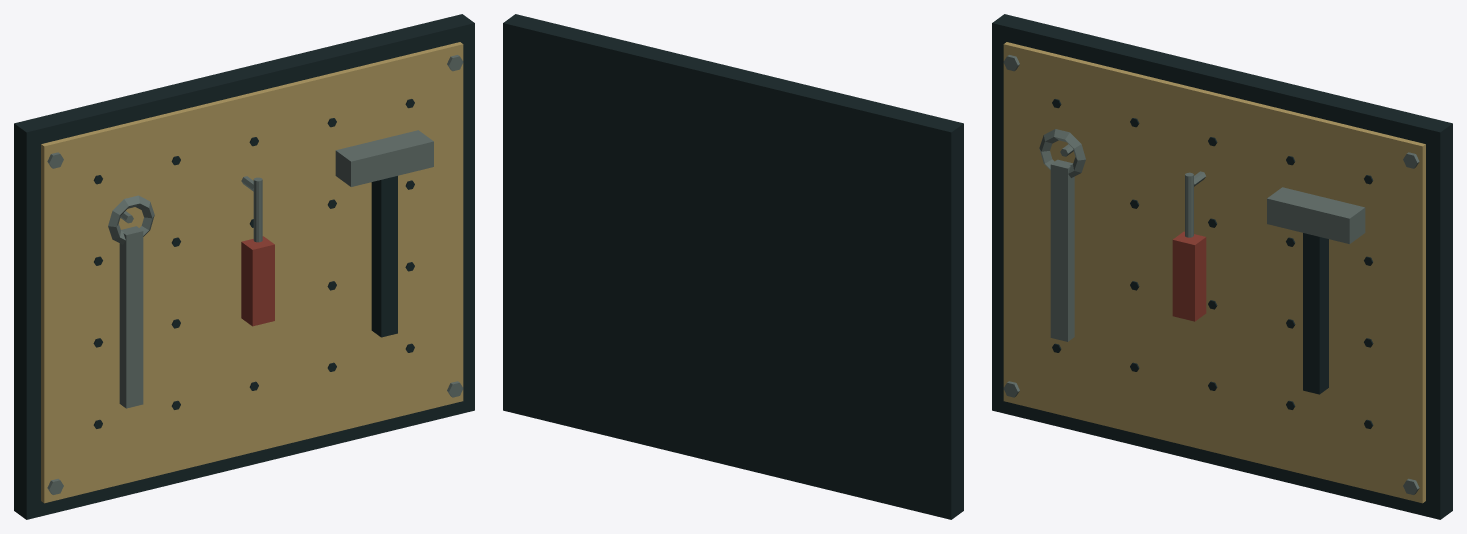
Rendered from tool-board.glb.
The picture shows the model from 3 angles, left to right: view 1: azimuth 30°, elevation 25°; view 2: azimuth 150°, elevation 25°; view 3: azimuth 330°, elevation 25°; orthographic projection.
Visible parts, largest first — view 1: tool-board; view 2: tool-board; view 3: tool-board.
Part boxes in pixels (x1=…): tool-board: x1=14, y1=14, x2=474, y2=519; tool-board: x1=503, y1=14, x2=963, y2=519; tool-board: x1=992, y1=14, x2=1452, y2=519.
Size of the model in its own units: 0.92 by 0.76 by 0.1325.
